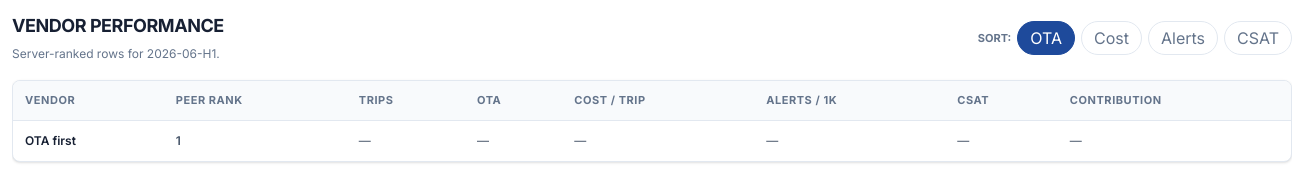
vendor table › uses the server response for each supported sort
Expected: the text "OTA first" is shown, [25, 133, 76, 148]
Click the button "Cost" at {"x": 1112, "y": 38}, box [1081, 21, 1142, 55]
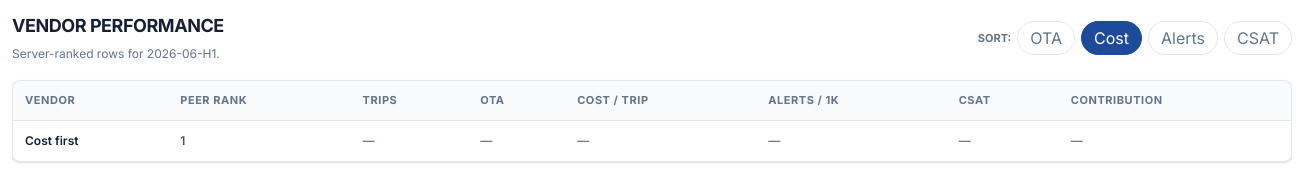
Result: the text "Cost first" is shown at [25, 133, 78, 148]
Click the button "Alerts" at {"x": 1183, "y": 38}, box [1148, 21, 1218, 55]
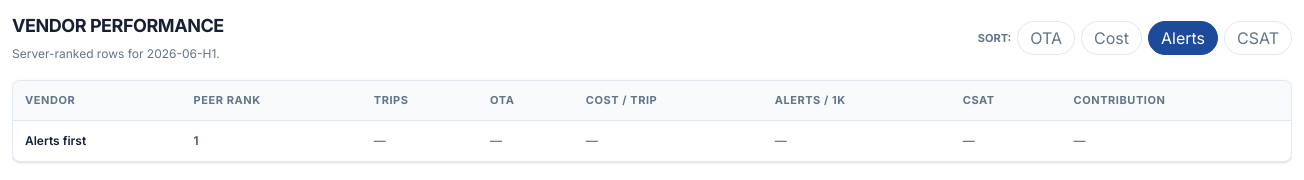
Result: the text "Alerts first" is shown at [25, 133, 86, 148]
Click the button "CSAT" at {"x": 1258, "y": 38}, box [1224, 21, 1292, 55]
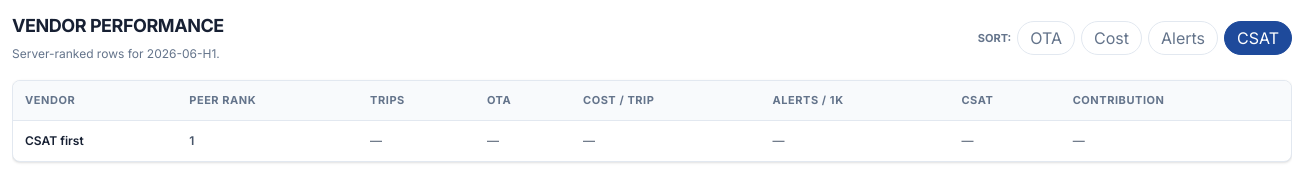
Result: the text "CSAT first" is shown at [25, 133, 84, 148]
